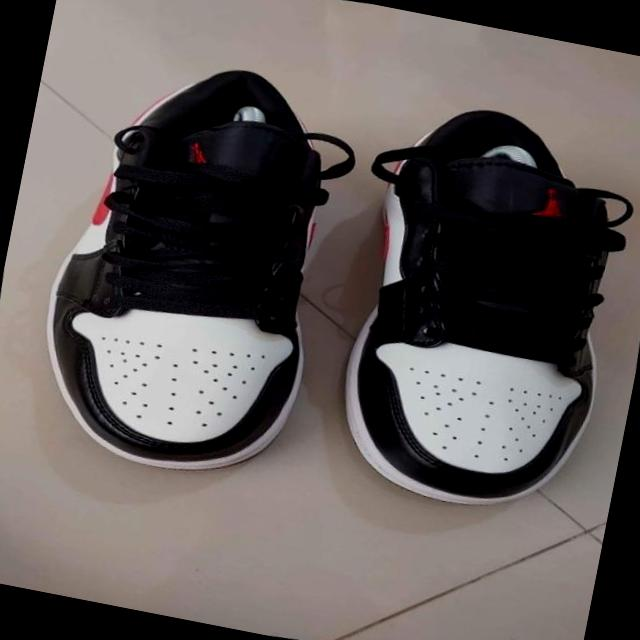nike_fake_jordan: (0, 31, 386, 508), (298, 80, 640, 535)
